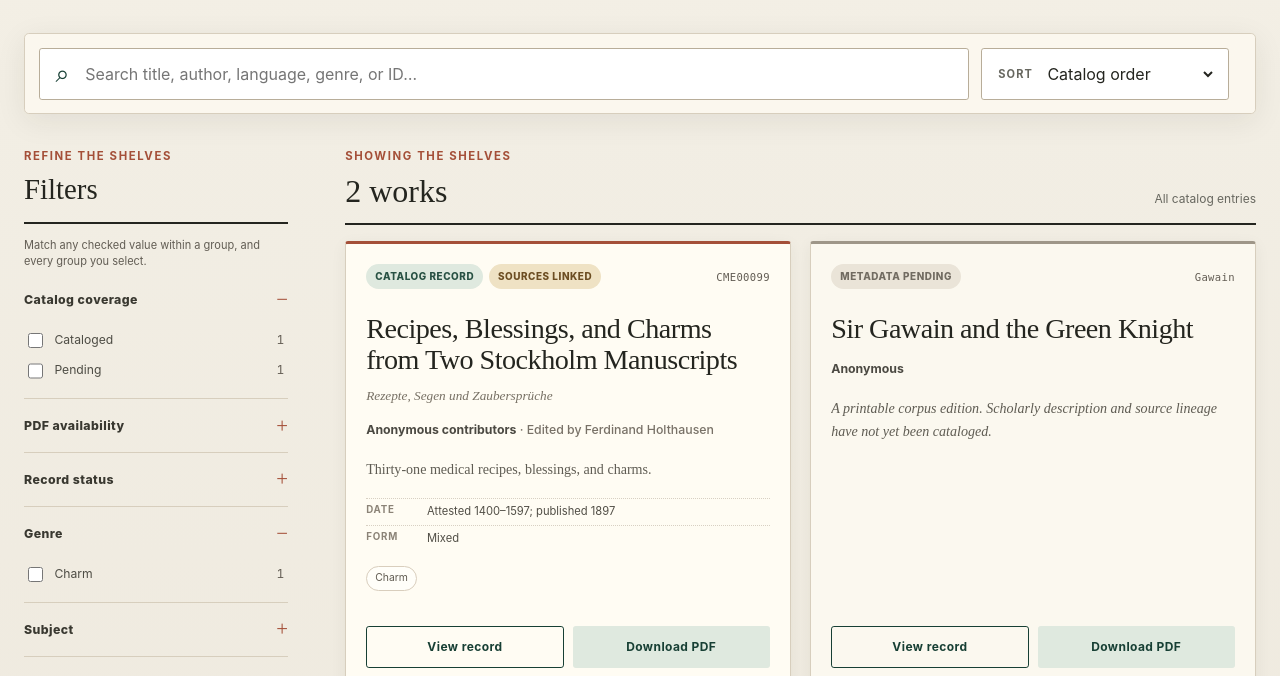
Test case: App › browses and filters human-readable work cards
(page scrolled)
Check: the text "Sir Gawain and the Green Knight" is shown, box [831,312,1235,344]
Check: the text "Recipes, Blessings, and Charms from Two Stockholm Manuscripts" is shown, box [366,312,770,376]
Click the checkbox labelled "Cataloged 1".
click(36, 340)  # box [28,333,43,348]
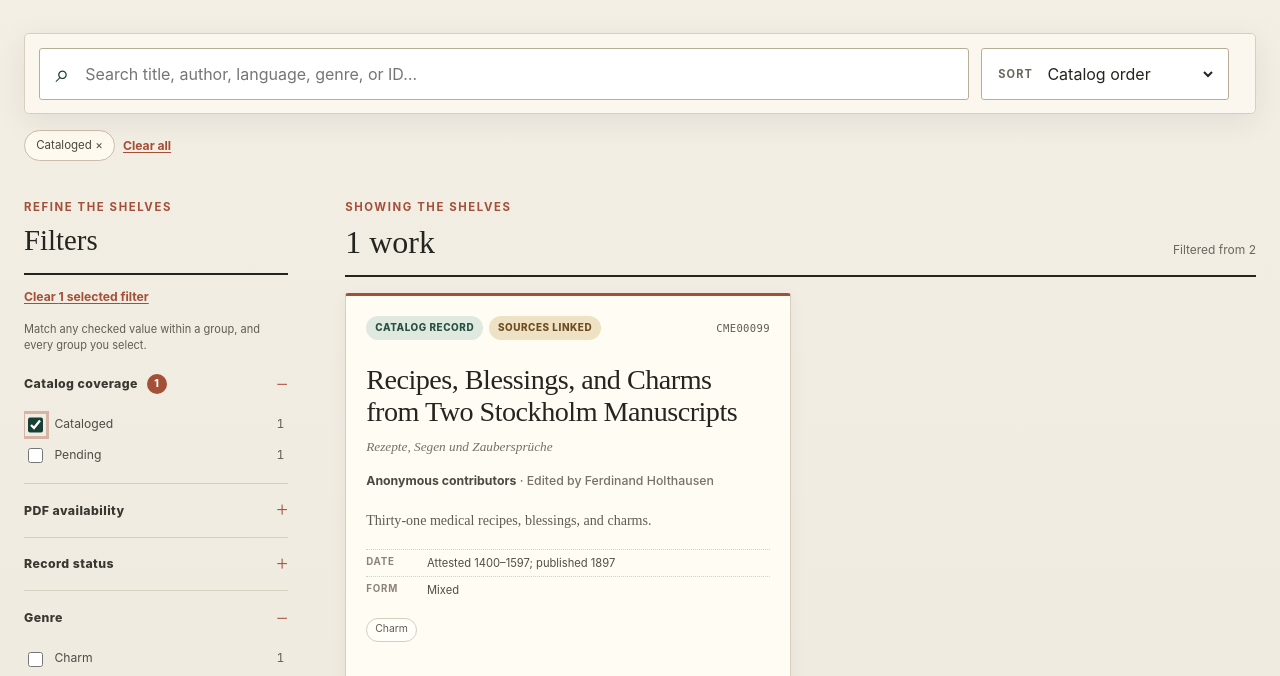
Check: the text "1 work" is shown, box [345,224,435,260]
Check: the button "Sir Gawain and the Green Knight" is gone
